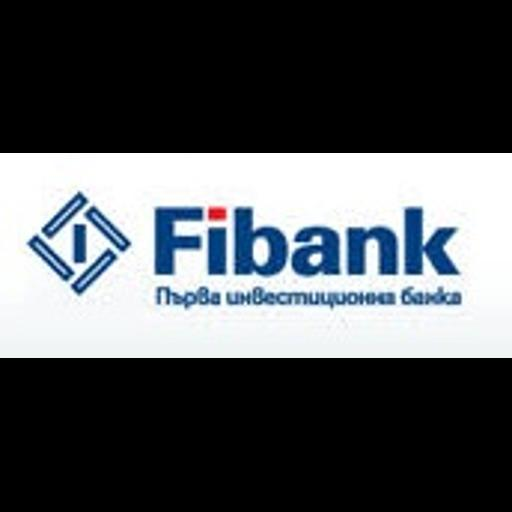First Investment Bank: (0, 153, 512, 358)
